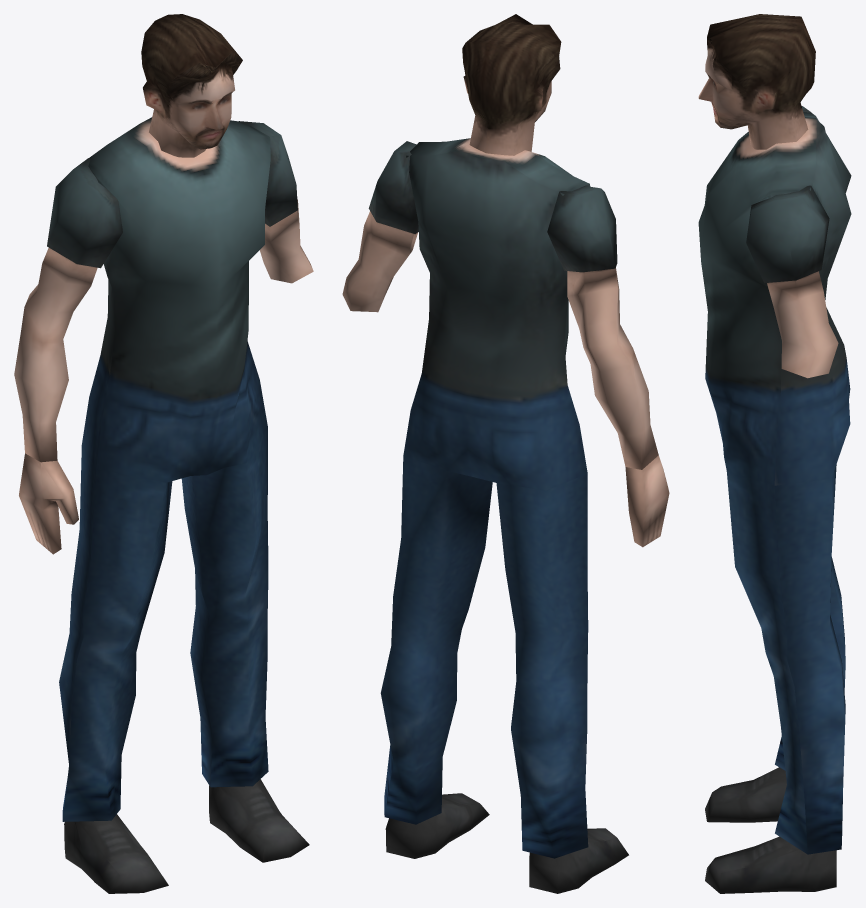
Rendered from armless.glb.
3 views of the same model, side by side, from view 1: azimuth 30°, elevation 25°; view 2: azimuth 150°, elevation 25°; view 3: azimuth 270°, elevation 25° (orthographic).
Visible parts, largest first — view 1: male_player; view 2: male_player; view 3: male_player.
Boxes of the visible parts, left/top/right/bottom form: male_player: left=14, top=14, right=313, bottom=893; male_player: left=342, top=14, right=669, bottom=893; male_player: left=698, top=14, right=851, bottom=893.
Size of the model in its own units: 0.6524 by 1.73 by 0.2894.
Materials: 1 (1 with a texture image).
